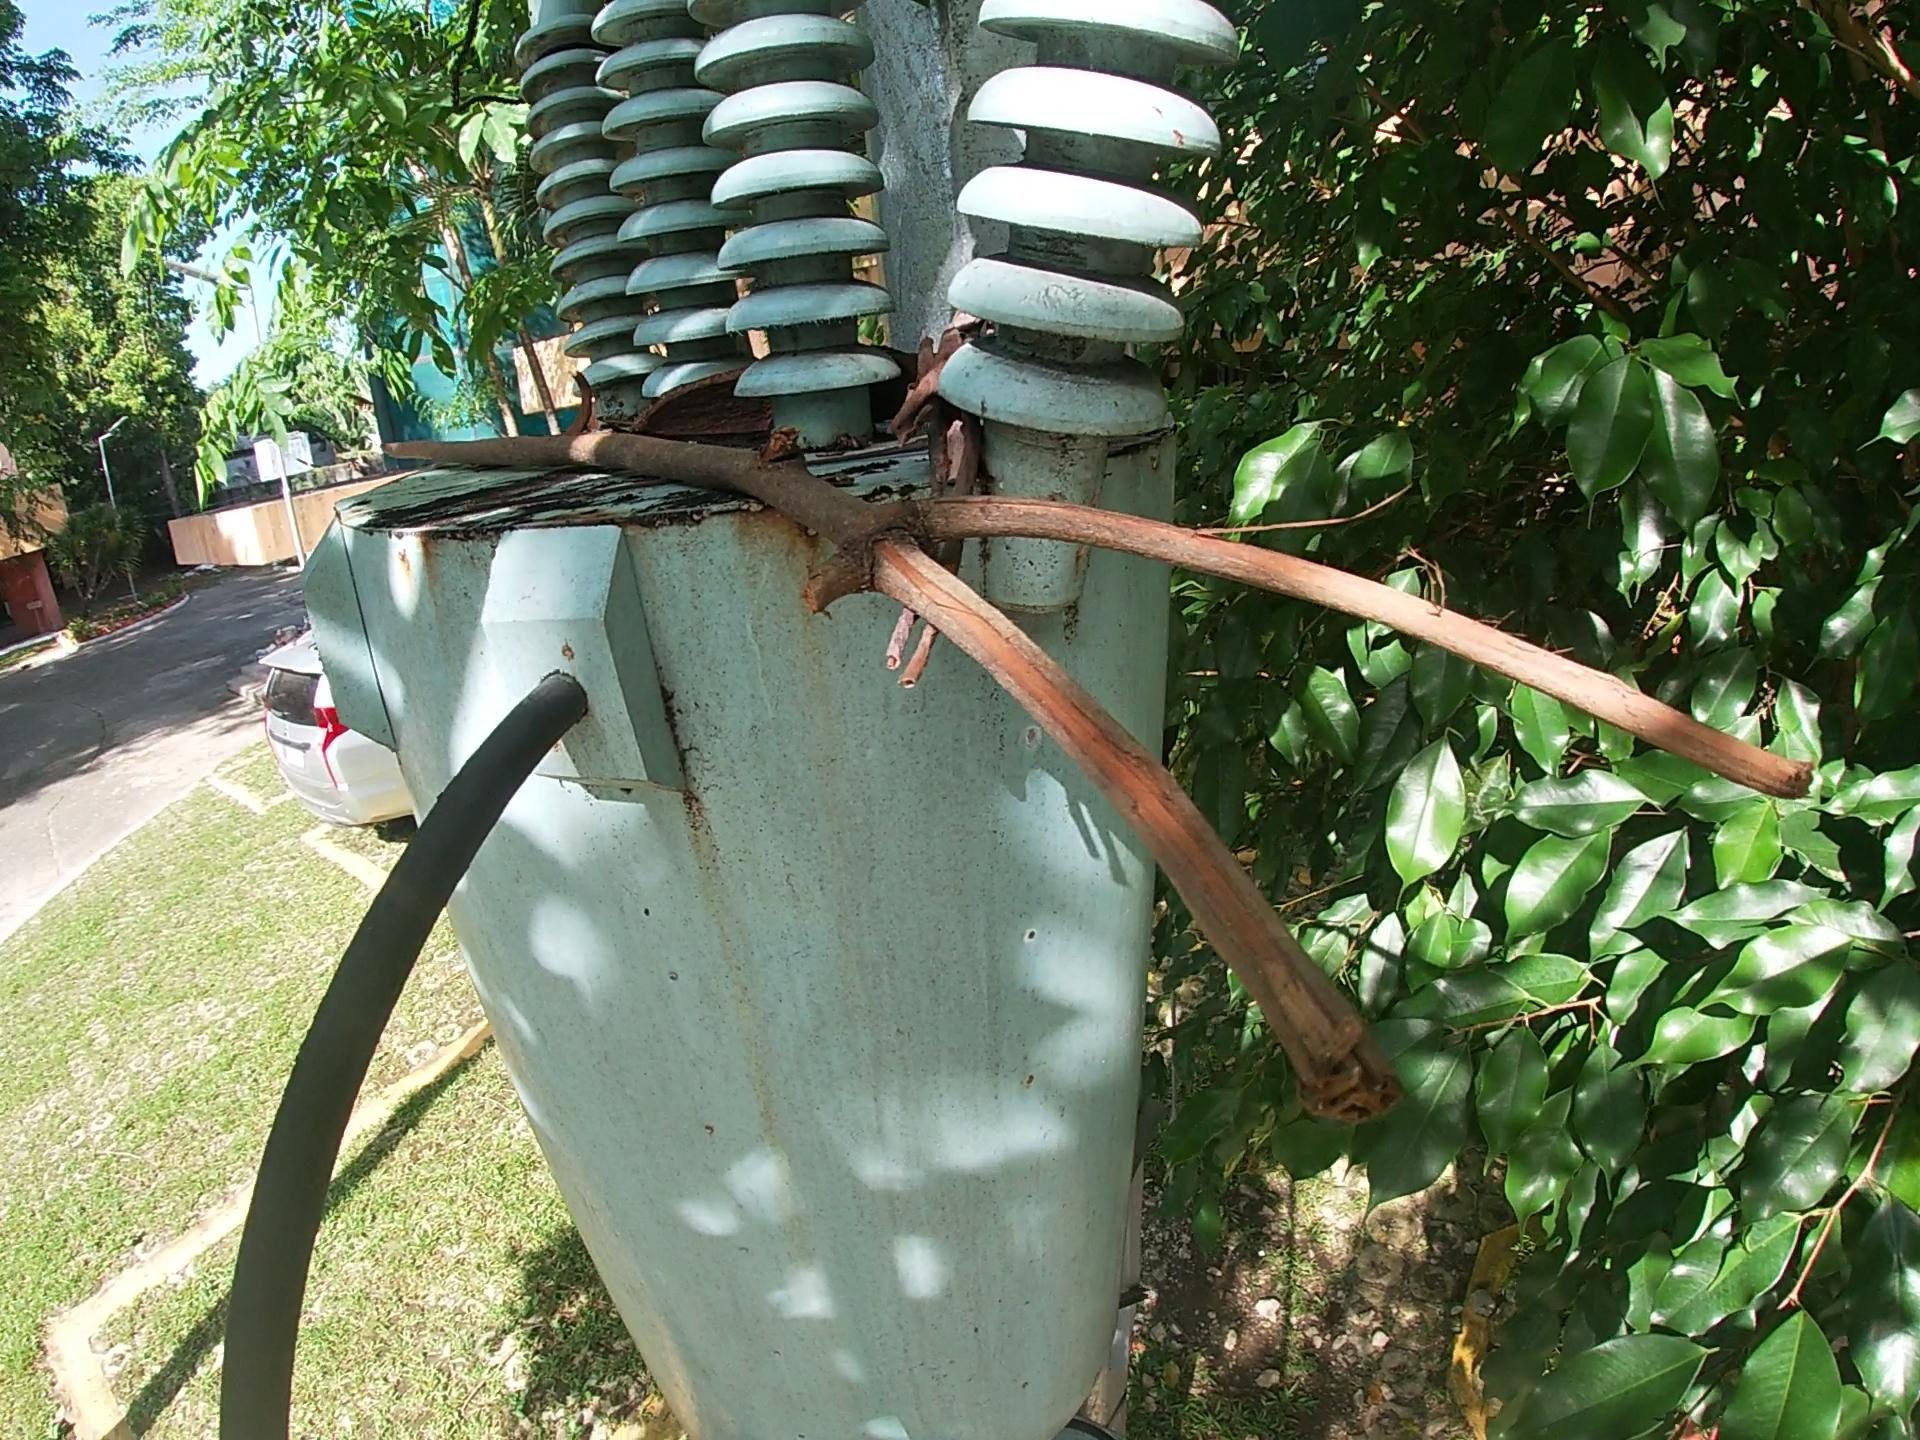mahogany fruit: (624, 340, 919, 458), (567, 368, 602, 433)
tree branch: (364, 410, 1822, 1133), (871, 310, 1001, 702)
